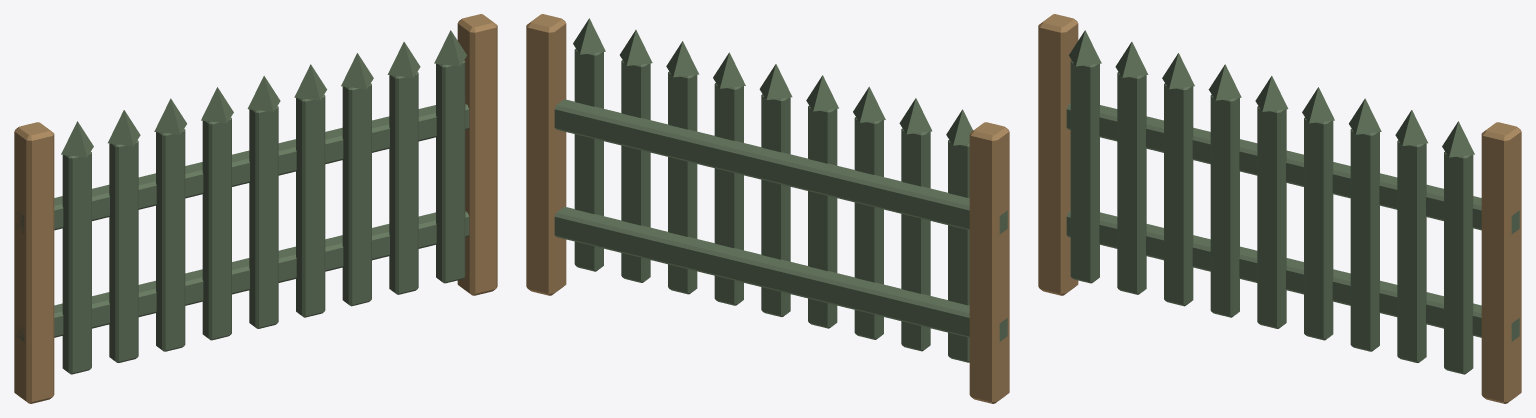
Rendered from garden-fence.glb.
3 renders of one model, left to right at view 1: azimuth 30°, elevation 25°; view 2: azimuth 150°, elevation 25°; view 3: azimuth 330°, elevation 25°, orthographic.
Parts seen in each view (by area): view 1: garden-fence; view 2: garden-fence; view 3: garden-fence.
Part boxes in pixels (x1=…): garden-fence: x1=14, y1=14, x2=497, y2=403; garden-fence: x1=526, y1=14, x2=1009, y2=403; garden-fence: x1=1038, y1=14, x2=1521, y2=403.
Size of the model in its own units: 2.02 by 1.12 by 0.191.
